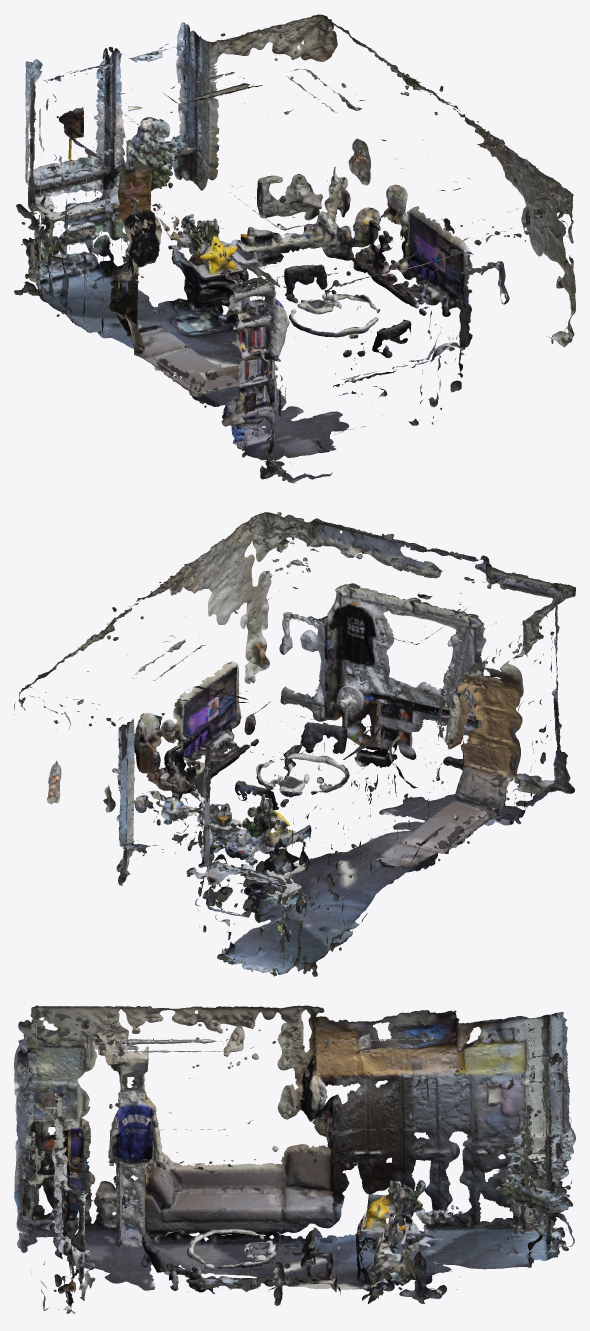
Rendered from mvs-balanced.glb.
3 views of the same model, one above another, from view 1: azimuth 30°, elevation 25°; view 2: azimuth 150°, elevation 25°; view 3: azimuth 270°, elevation 25° (orthographic).
Parts seen in each view (by area): view 1: mesh.ply; view 2: mesh.ply; view 3: mesh.ply.
Part boxes in pixels (box(x1,y1,x2,y2)): mesh.ply: box(14, 14, 575, 483); mesh.ply: box(14, 512, 575, 976); mesh.ply: box(14, 1005, 575, 1313).
Size of the model in its own units: 4.28 by 2.82 by 6.33.
1 material, 1 textured.
